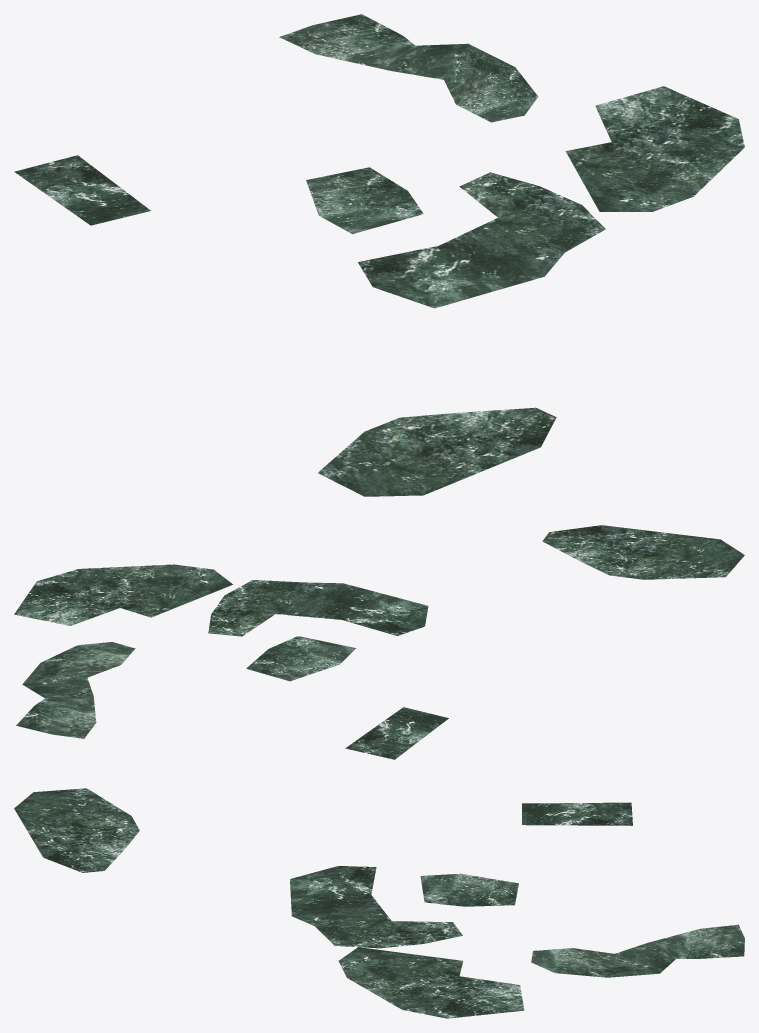
3 renders of one model, top to bottom at view 1: azimuth 30°, elevation 25°; view 2: azimuth 150°, elevation 25°; view 3: azimuth 270°, elevation 25°, orthographic. The views are drawn at different scales.
Parts seen in each view (by area): view 1: w5; view 2: w5; view 3: w5.
Boxes of the visible parts, x1,y1,x2,y2 form: w5: (14,14,744,496); w5: (14,525,744,759); w5: (14,788,744,1018).
Bounding box in the file's own units: 9579 × 183 × 12387.
1 material, 1 textured.
